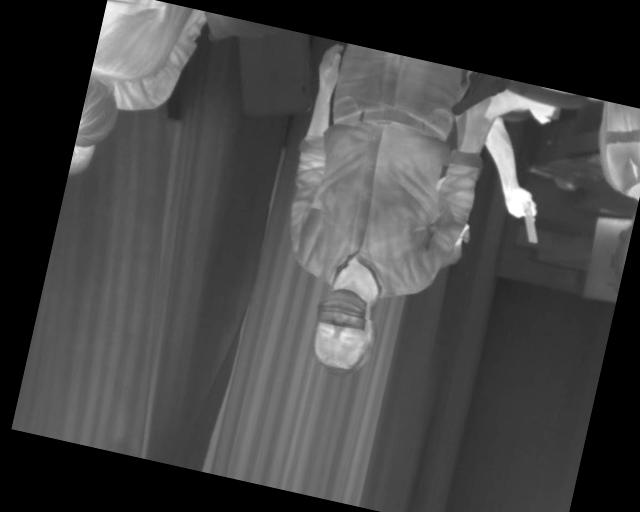face: (303, 283, 384, 381)
